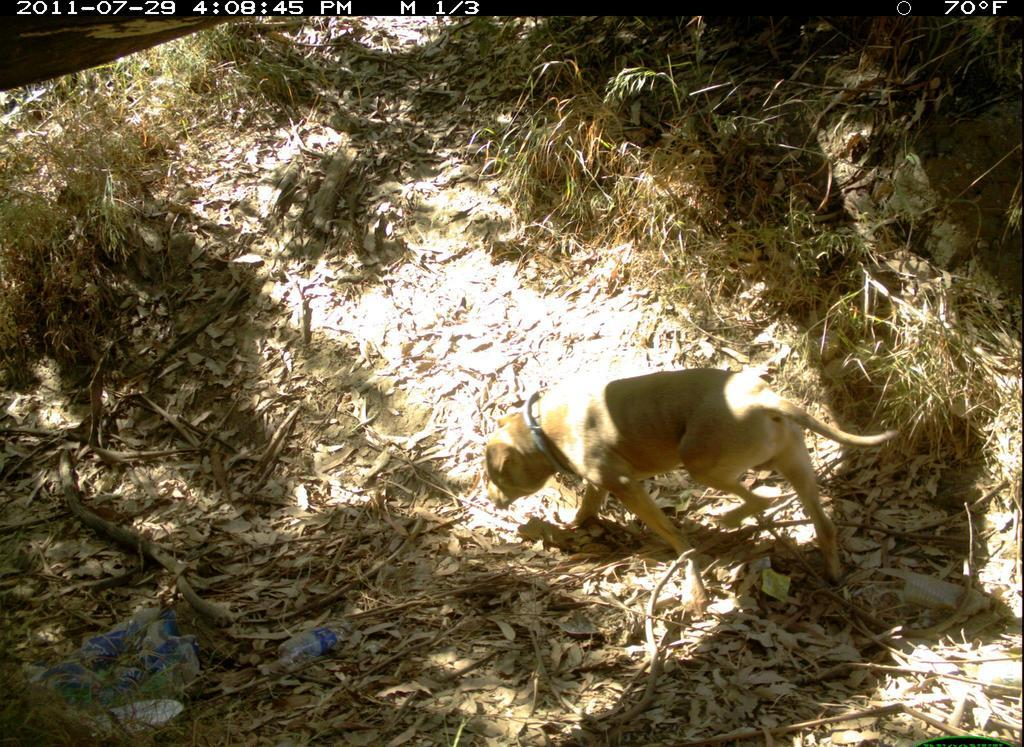dog: (466, 358, 939, 600)
